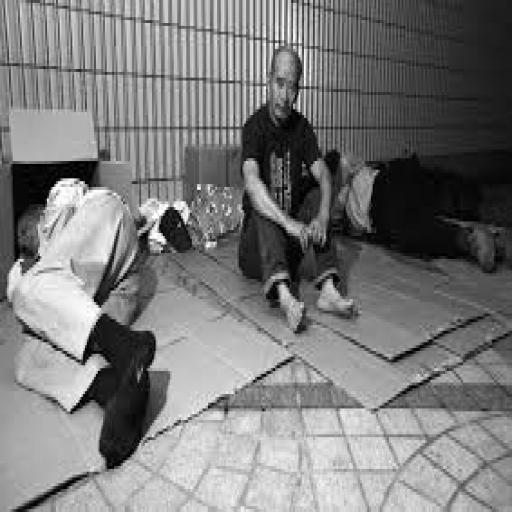sleeping: (235, 43, 360, 334)
